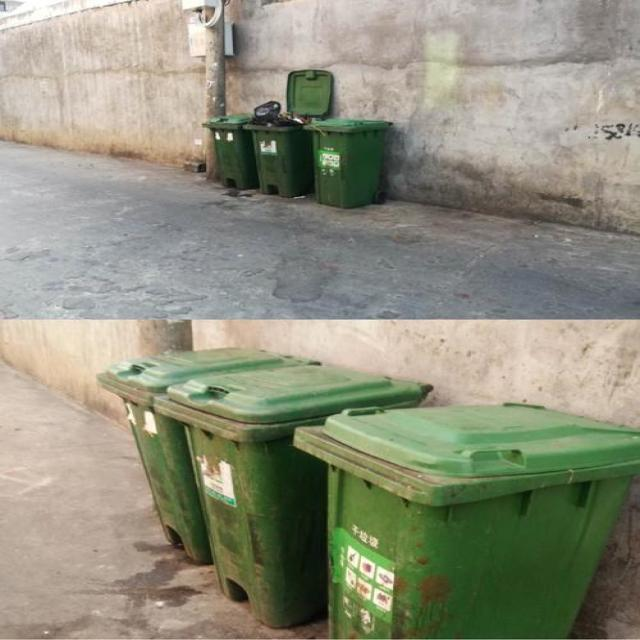garbage_bin: (293, 402, 639, 639), (154, 363, 435, 628), (97, 345, 319, 563), (301, 117, 390, 208), (201, 114, 253, 188)
overflow: (240, 100, 314, 196)
